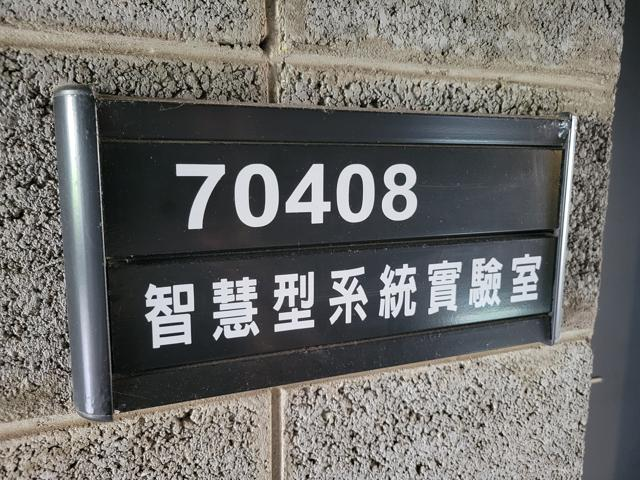doorplate: (46, 76, 590, 428)
